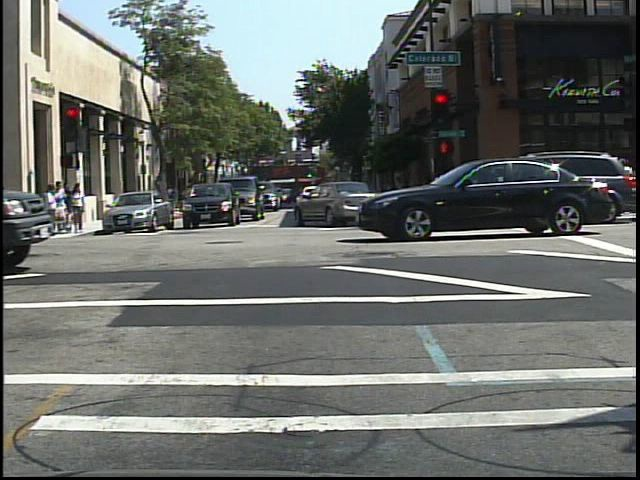person: (616, 151, 638, 221), (162, 180, 180, 220)
